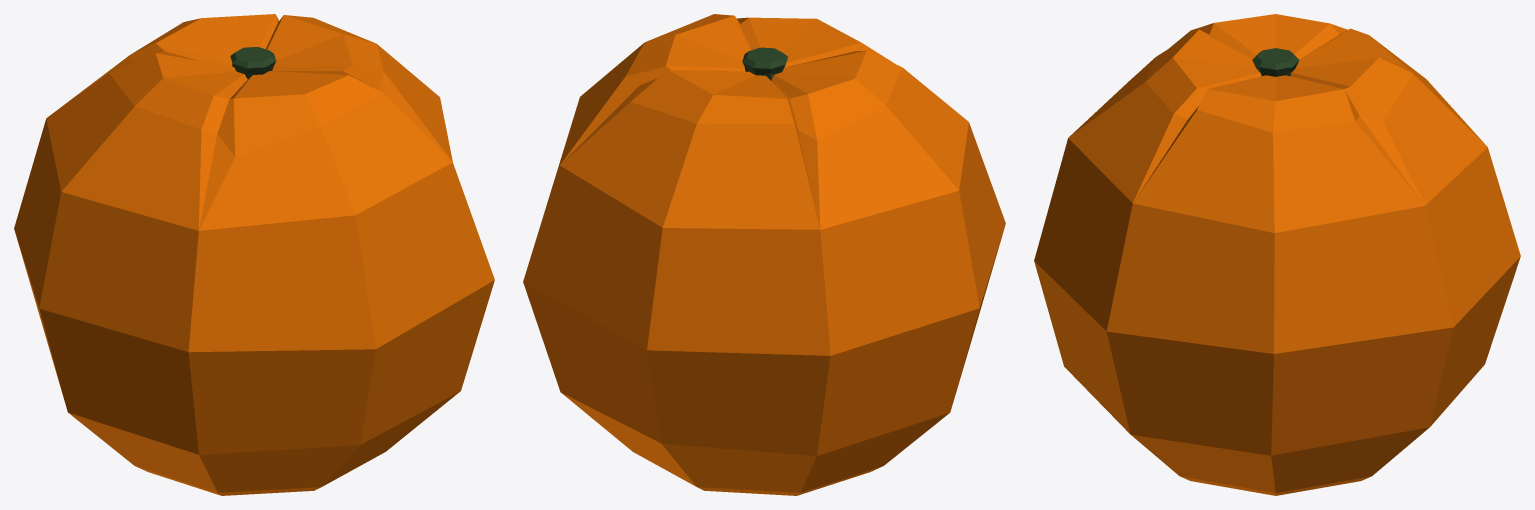
File: Orange_Raw.fbx
3 views of the same model, side by side, from view 1: azimuth 30°, elevation 25°; view 2: azimuth 150°, elevation 25°; view 3: azimuth 270°, elevation 25° (orthographic).
Parts seen in each view (by area): view 1: SM_Orange_Raw; view 2: SM_Orange_Raw; view 3: SM_Orange_Raw.
Boxes of the visible parts, x1,y1,x2,y2 form: SM_Orange_Raw: [14, 14, 494, 495]; SM_Orange_Raw: [523, 14, 1005, 495]; SM_Orange_Raw: [1034, 14, 1520, 495].
Bounding box in the file's own units: 10.19 × 9.48 × 10.27.
Materials: 1 (1 with a texture image).
